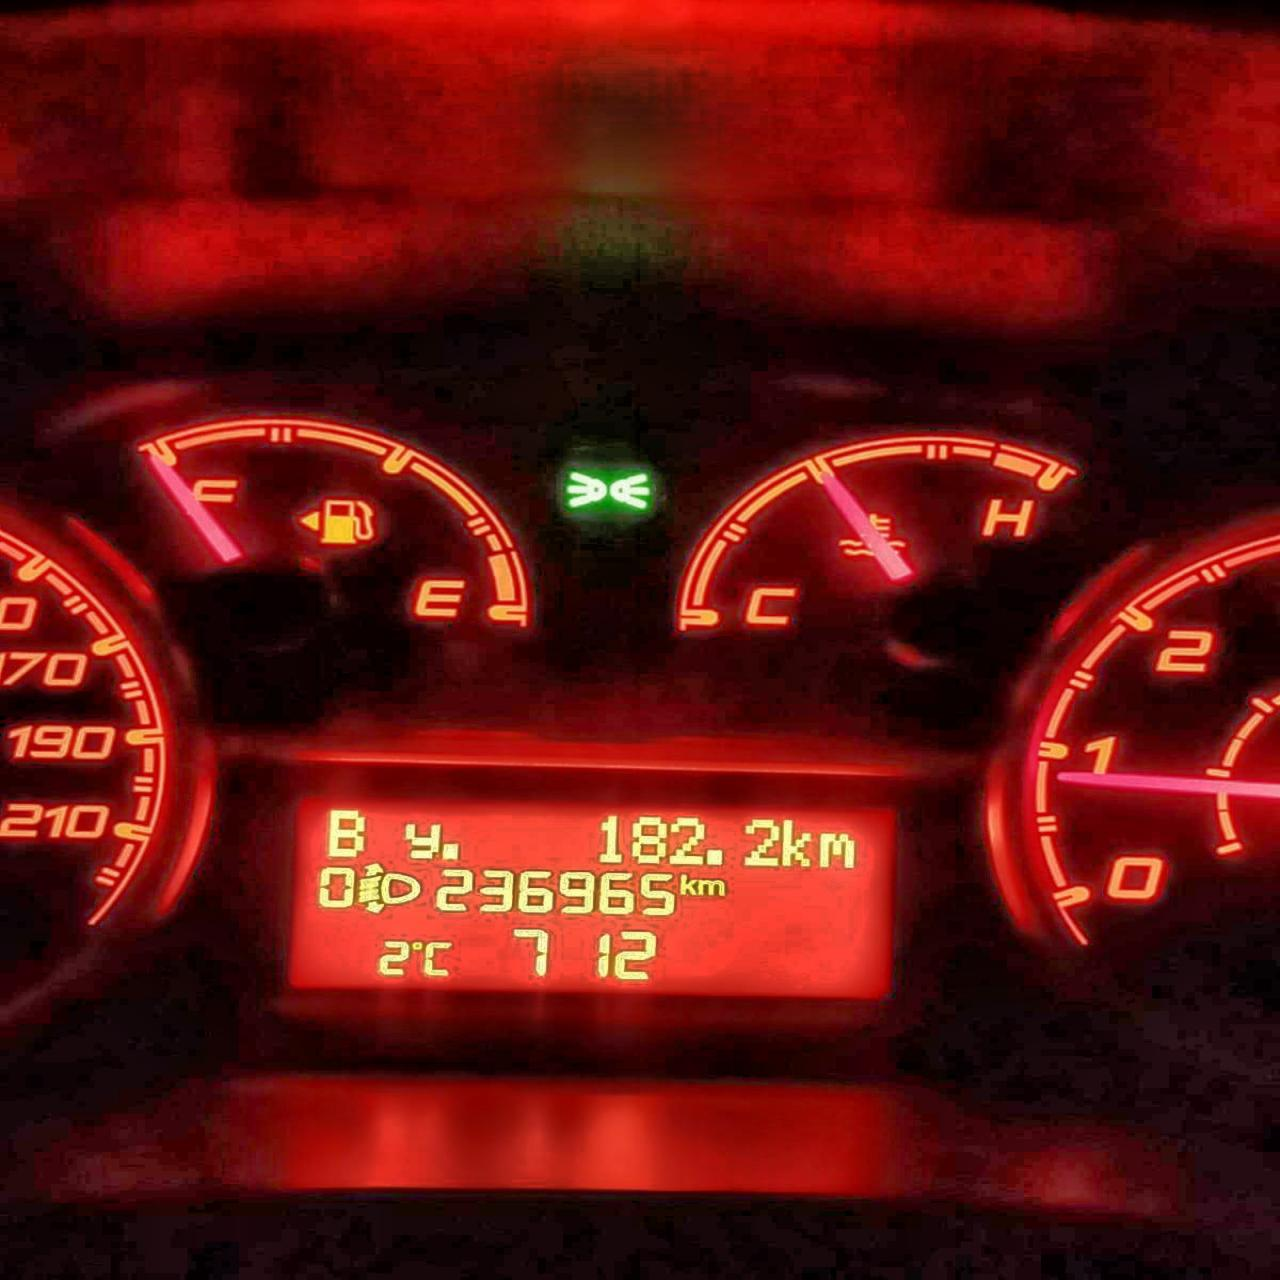-: (704, 847, 723, 865), (441, 843, 459, 860)
0: (315, 865, 354, 908)
1: (597, 813, 622, 864), (594, 933, 611, 978)
2: (612, 930, 655, 980), (741, 818, 781, 867), (668, 816, 706, 865), (434, 867, 474, 912), (376, 939, 409, 975)
3: (477, 869, 515, 912)
5: (638, 872, 675, 915)
6: (516, 869, 554, 913), (597, 871, 635, 914)
7: (510, 927, 550, 976)
8: (629, 815, 668, 864)
9: (557, 871, 597, 913)
X: (325, 809, 366, 857), (779, 817, 811, 866), (816, 831, 857, 869), (402, 823, 442, 859), (421, 940, 452, 976), (695, 878, 726, 896), (678, 873, 696, 896)
odometer: (281, 792, 899, 1002)
